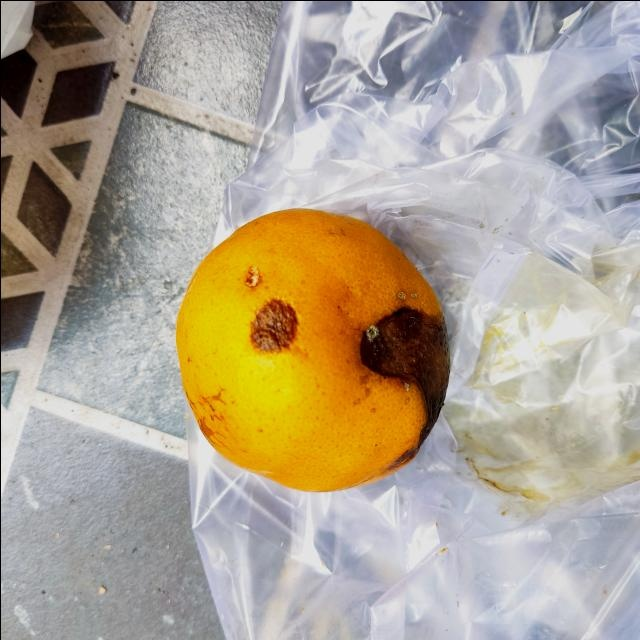agrume: (169, 201, 452, 495)
